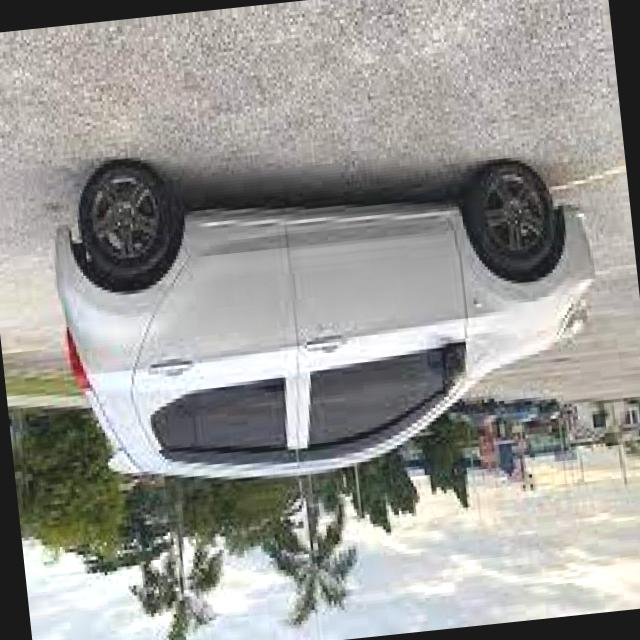PeroduaAxia: (40, 113, 613, 506)
